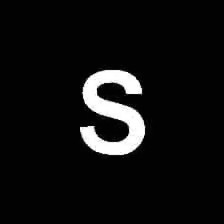LTR_S: (76, 62, 151, 159)
